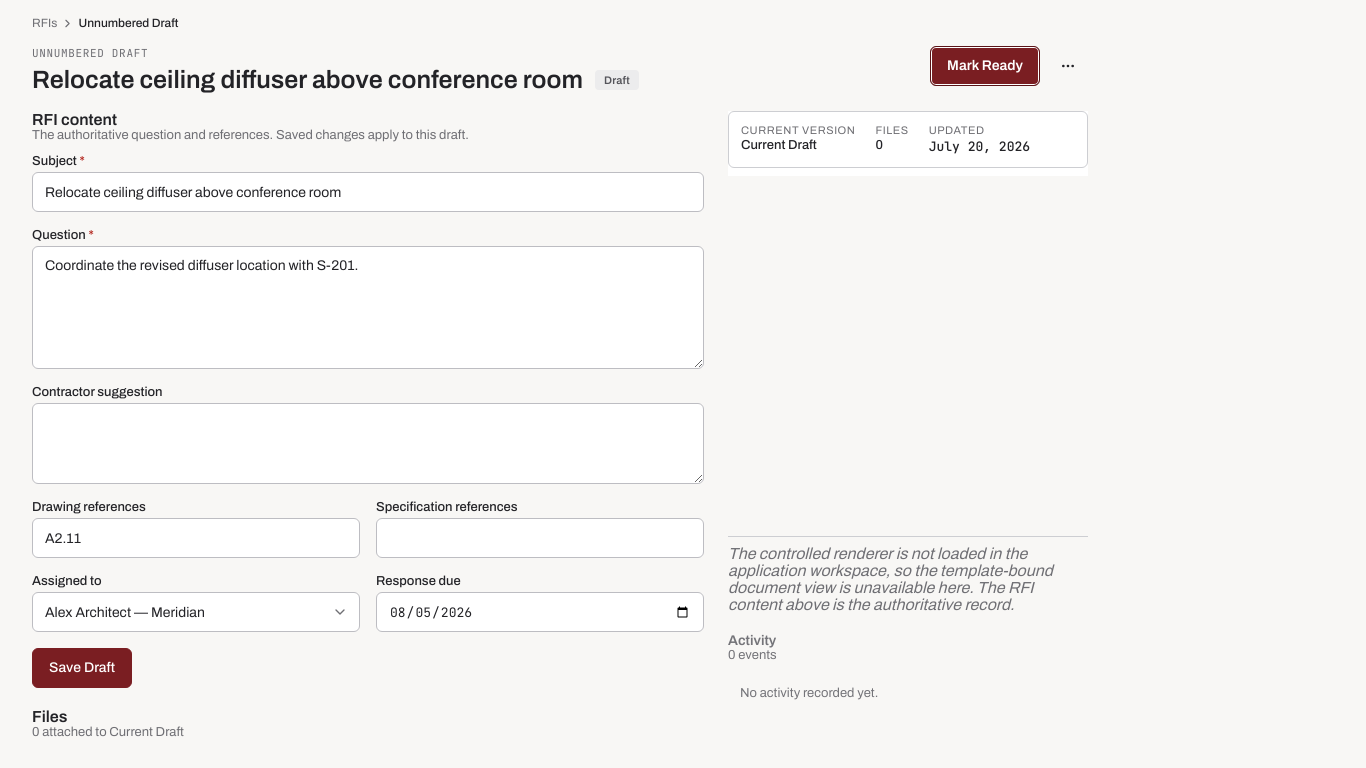
Test: RFI workspace — save-and-ready sequence › keeps an incomplete draft editable when the server refuses ready
The width and height of the screenshot is (1366, 768).
expect the header with class "base-workspace__identity" is shown: met, box [32,46,1088,95]
Click the button "Mark ready" at (985, 66), box [930,46,1040,86]
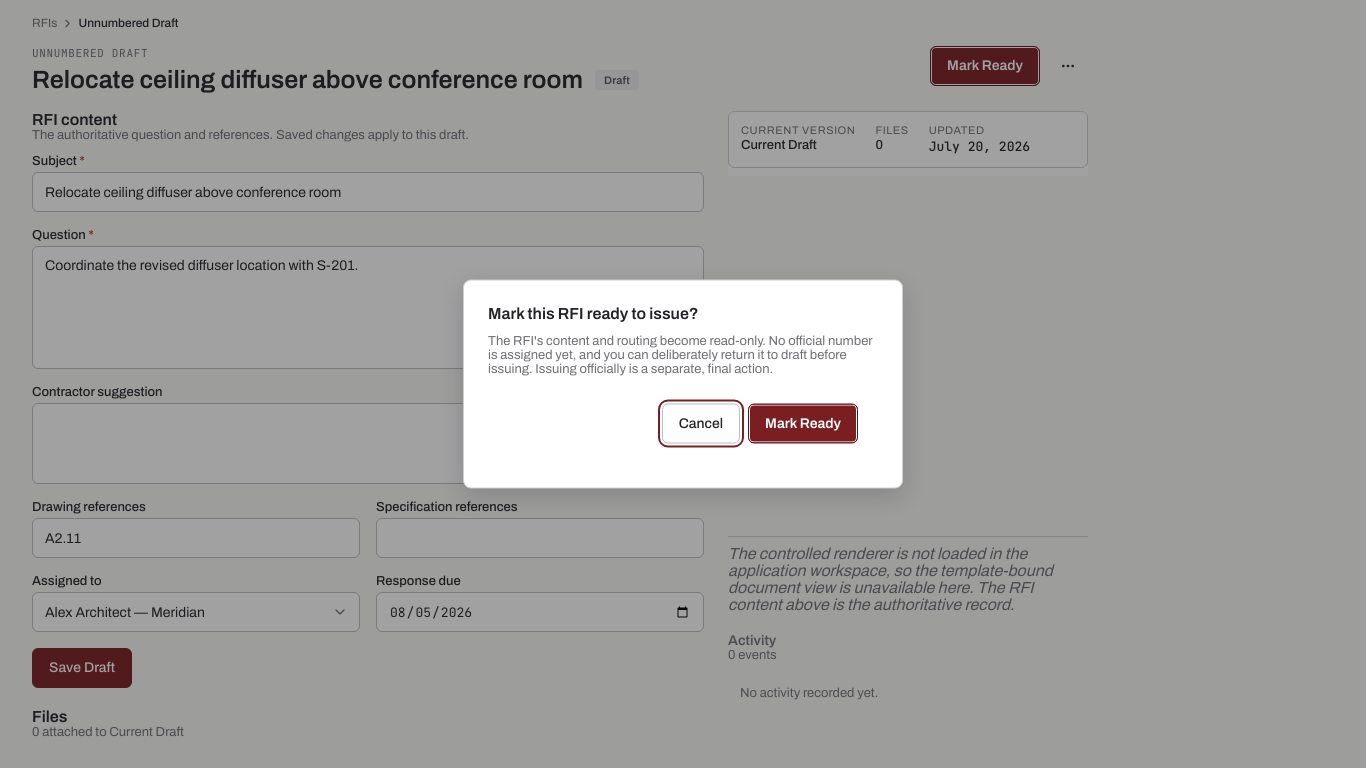
Click the button "Mark ready" at (803, 424), box [748,404,858,444]
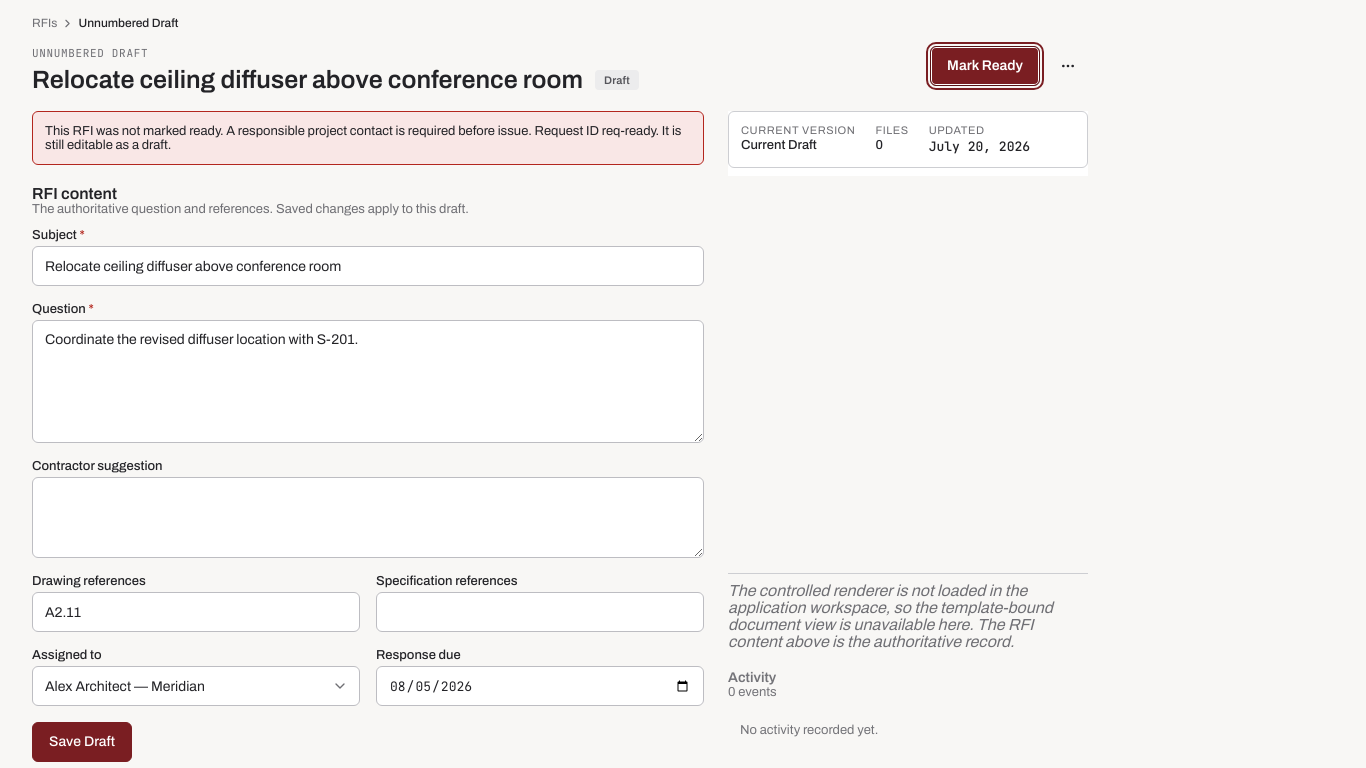
expect the message shows "A responsible project contact is required before issue.": met, box [45,124,682,152]
expect the message shows "req-ready": met, box [45,124,682,152]
expect the message shows "still editable as a draft": met, box [45,124,682,152]
